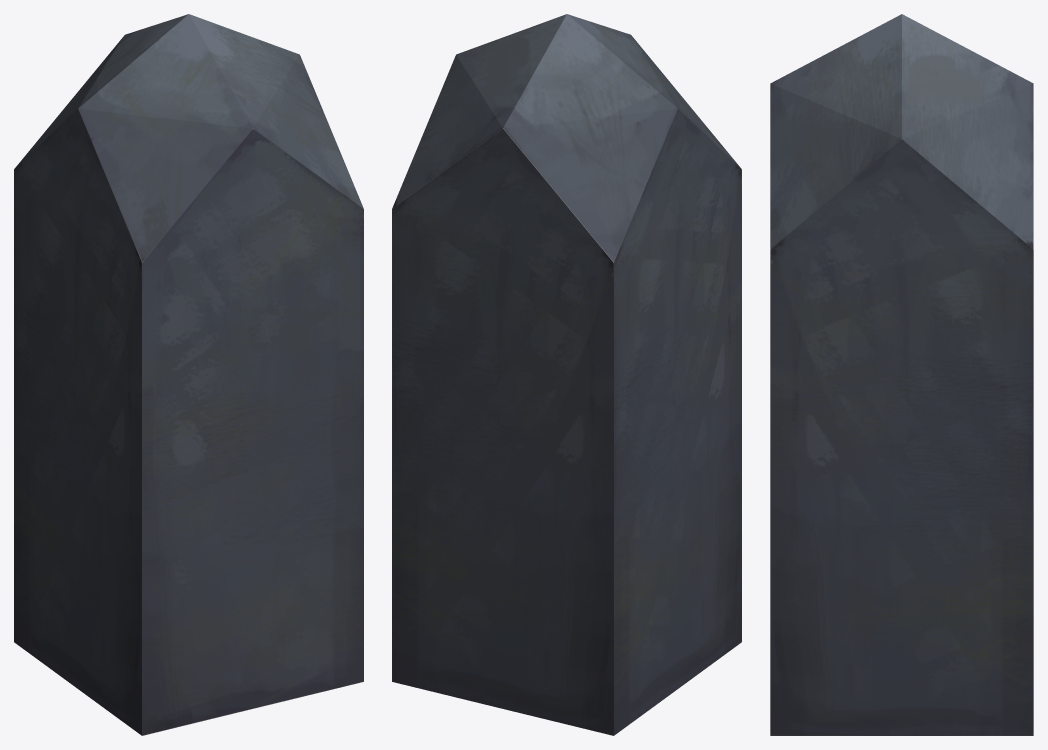
The model's file is Grave_church04.fbx.
3 views of the same model, side by side, from view 1: azimuth 30°, elevation 25°; view 2: azimuth 150°, elevation 25°; view 3: azimuth 270°, elevation 25° (orthographic). The views are drawn at different scales.
Visible parts, largest first — view 1: Grave_church04; view 2: Grave_church04; view 3: Grave_church04.
Part boxes in pixels (<box>): Grave_church04: <box>14,14,363,735</box>; Grave_church04: <box>392,14,741,735</box>; Grave_church04: <box>770,14,1033,735</box>.
Bounding box in the file's own units: 0.2348 × 0.6554 × 0.2348.
Materials: 1 (1 with a texture image).
